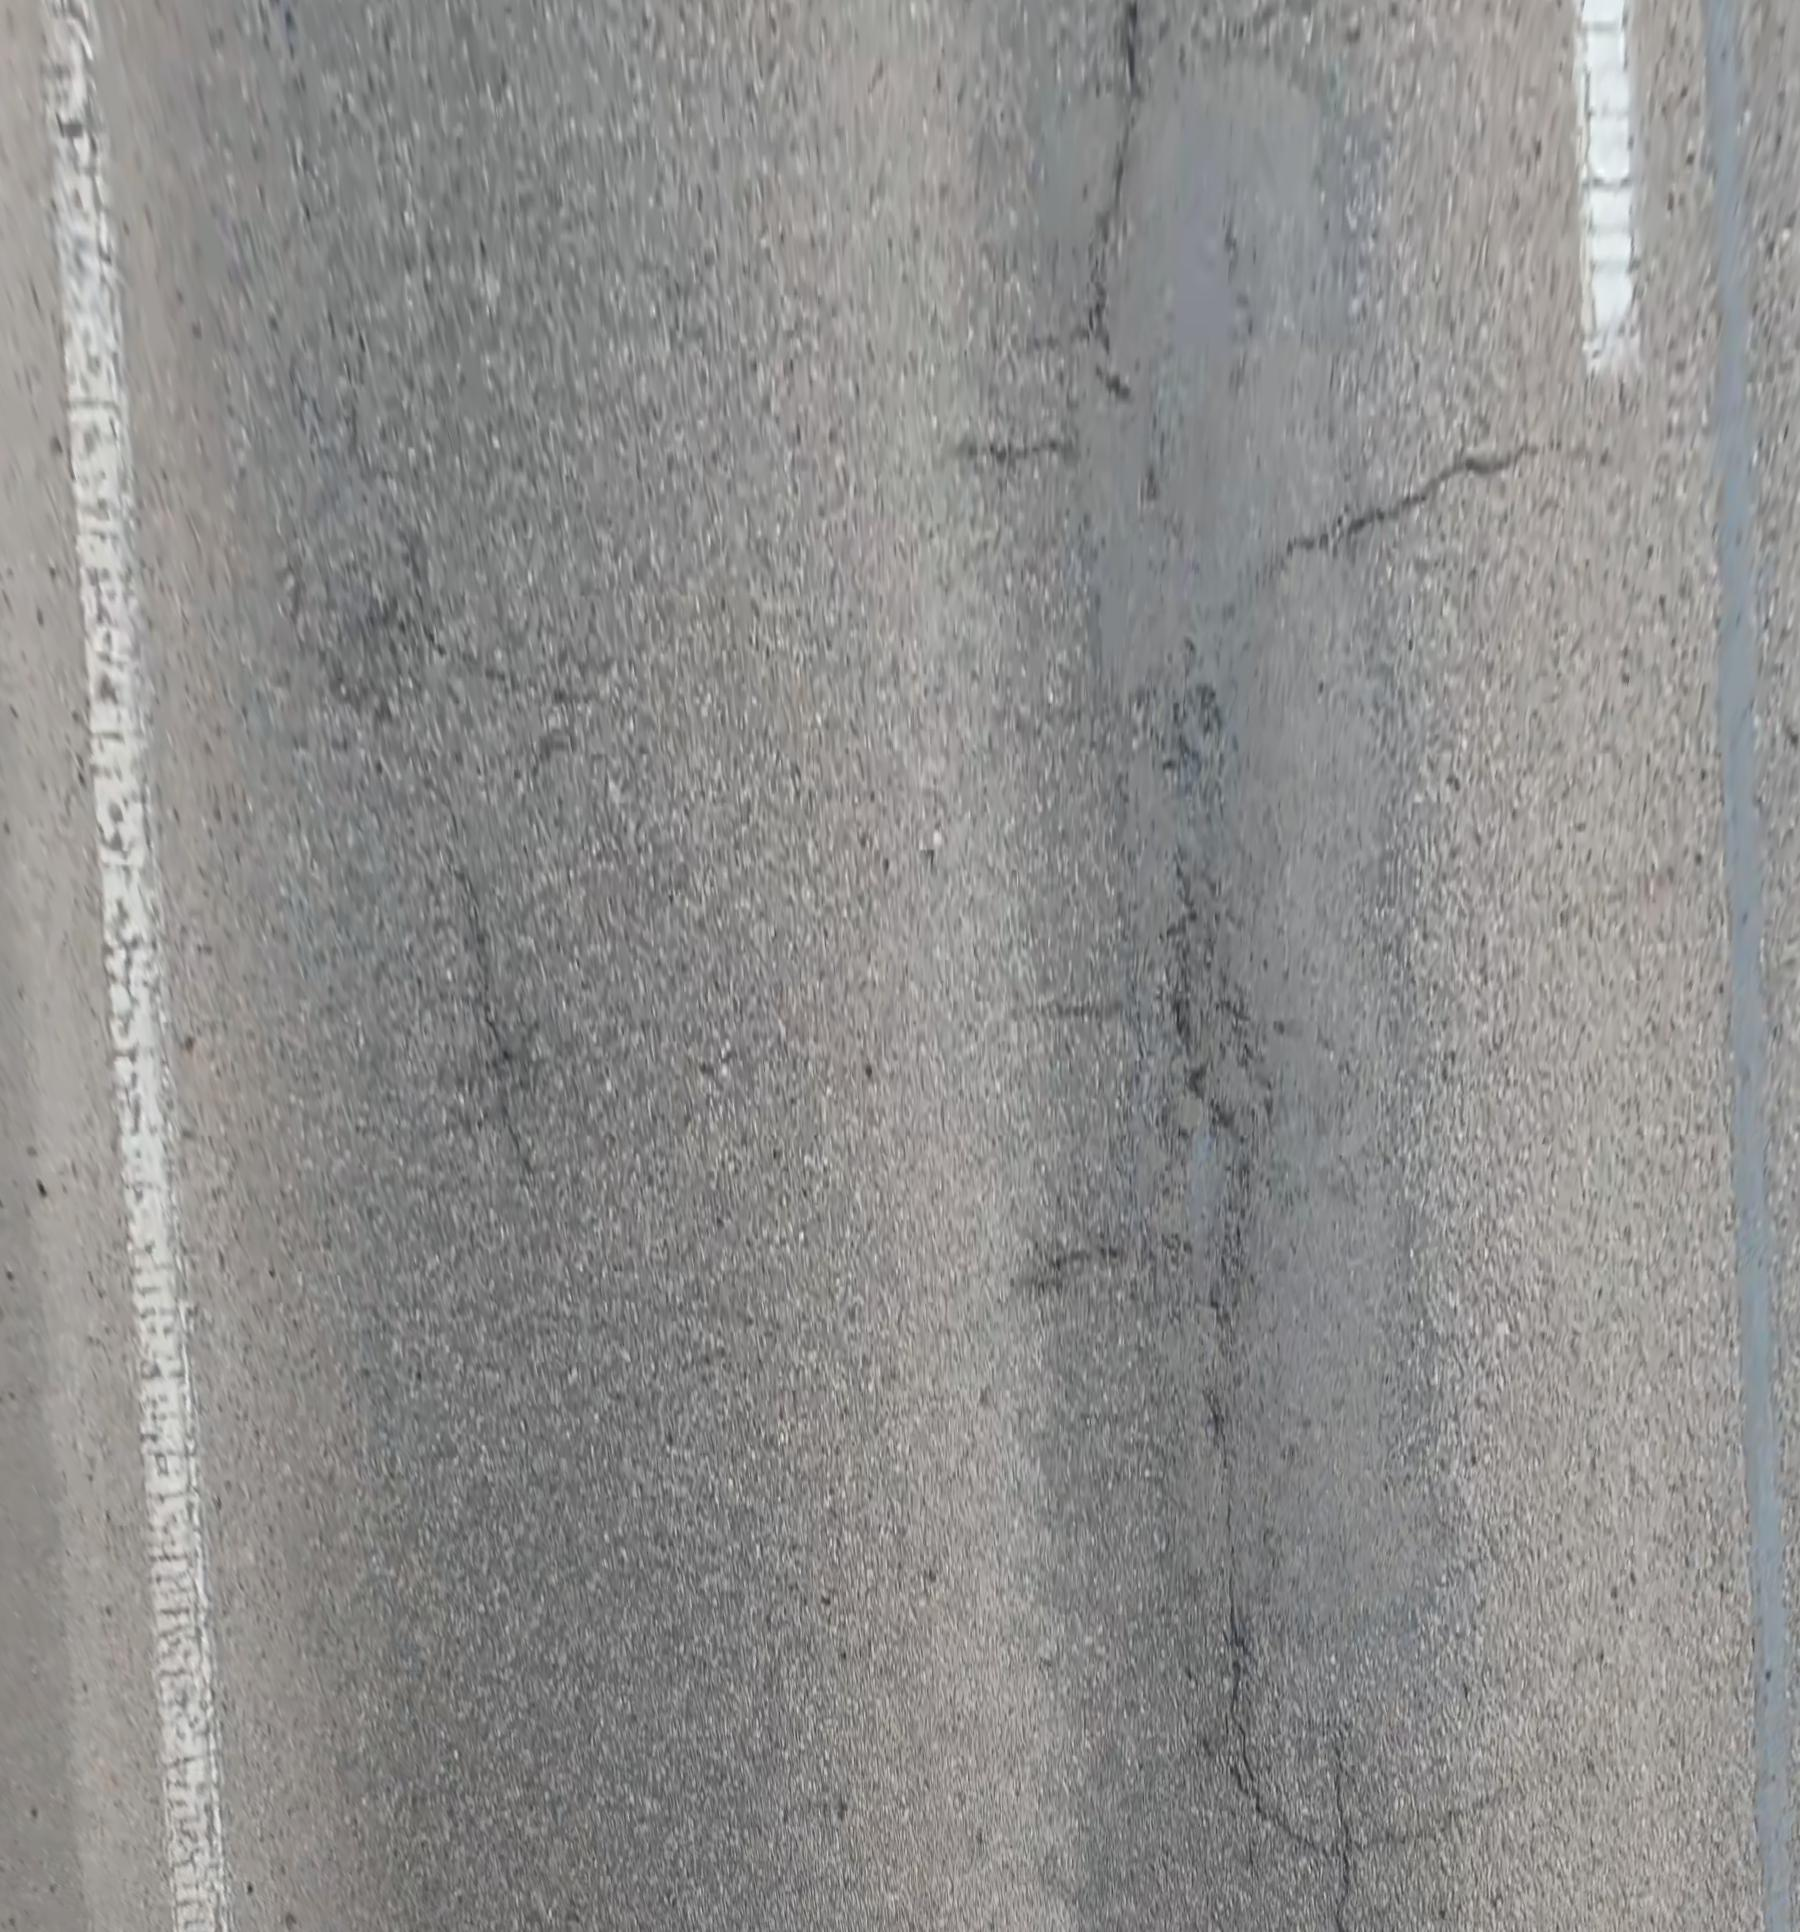pothole_patch_poor: (1105, 41, 1463, 1683)
